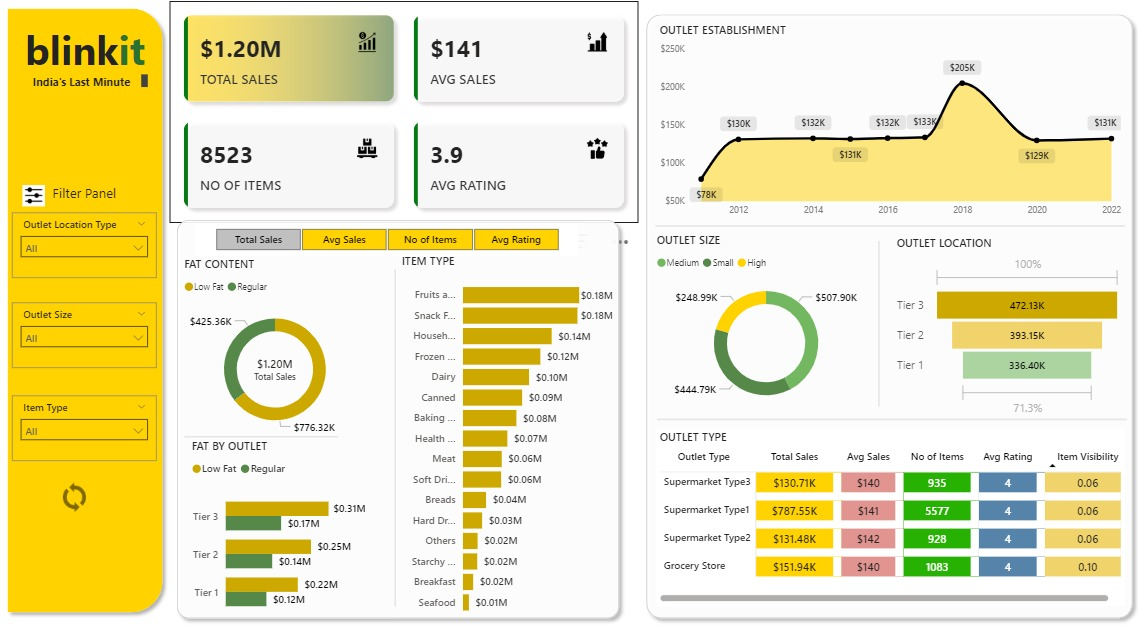

Layout of this report page (visuals, bound fields, positions):
{"tool":"powerbi","page":{"name":"Page 1","canvas":[1400,800],"ordinal":0},"visuals":[{"type":"shape","box":[18.1,25.3,206,750],"z":0},{"type":"textbox","box":[18.1,45.2,206,94],"z":1000},{"type":"textbox","box":[39.8,108.4,162.7,30.7],"z":2000},{"type":"cardVisual","fields":{"Data":["BlinkIT Grocery Data.Total Sales","BlinkIT Grocery Data.Avg Sales","BlinkIT Grocery Data.No of Items","BlinkIT Grocery Data.Avg Rating"]},"box":[224.1,25.3,569.3,269.3],"z":3000},{"type":"shape","box":[224.1,281.9,554,501],"z":4000},{"type":"donutChart","title":"FAT CONTENT","fields":{"Y":["BlinkIT Grocery Data.Total Sales"],"Category":["BlinkIT Grocery Data.Item Fat Content"]},"box":[236.8,334.3,229.5,229.5],"z":5000},{"type":"slicer","fields":{"Values":["Metrics.Metrics"]},"box":[254.8,294.6,464.5,39.8],"z":6000},{"type":"cardVisual","fields":{"Data":["BlinkIT Grocery Data.Total Sales"]},"box":[296.4,430.1,110.2,81.3],"z":7000},{"type":"clusteredBarChart","title":"FAT BY OUTLET","fields":{"Y":["BlinkIT Grocery Data.Total Sales"],"Category":["BlinkIT Grocery Data.Outlet Location Type"],"Series":["BlinkIT Grocery Data.Item Fat Content"]},"box":[245.8,554.8,220.5,229.5],"z":8000},{"type":"shape","box":[242.2,544,186.1,19.9],"z":9000},{"type":"shape","box":[486.2,350.6,23.5,408.4],"z":10000},{"type":"barChart","title":"ITEM TYPE","fields":{"Y":["BlinkIT Grocery Data.Total Sales"],"Category":["BlinkIT Grocery Data.Item Type"]},"box":[500.6,330.7,265.7,448.2],"z":11000},{"type":"shape","box":[793.4,32.5,607.2,750],"z":12000},{"type":"lineChart","title":"OUTLET ESTABLISHMENT","fields":{"Category":["BlinkIT Grocery Data.Outlet Establishment Year"],"Y":["BlinkIT Grocery Data.Total Sales"]},"box":[813.3,50.6,569.3,244],"z":13000},{"type":"shape","box":[813.3,281.9,569.3,32.5],"z":14000},{"type":"donutChart","title":"OUTLET SIZE","fields":{"Y":["BlinkIT Grocery Data.Total Sales"],"Category":["BlinkIT Grocery Data.Outlet Size"]},"box":[809.7,305.4,274.7,224.1],"z":15000},{"type":"shape","box":[1071.7,316.3,25.3,200.6],"z":16000},{"type":"funnel","title":"OUTLET LOCATION","fields":{"Y":["Sum(BlinkIT Grocery Data.Sales)"],"Category":["BlinkIT Grocery Data.Outlet Location Type"]},"box":[1100.6,309,281.9,224.1],"z":17000},{"type":"shape","box":[815.1,516.9,569.3,32.5],"z":18000},{"type":"pivotTable","title":"OUTLET TYPE","fields":{"Rows":["BlinkIT Grocery Data.Outlet Type"],"Values":["BlinkIT Grocery Data.Total Sales","BlinkIT Grocery Data.Avg Sales","BlinkIT Grocery Data.No of Items","BlinkIT Grocery Data.Avg Rating","Avg(BlinkIT Grocery Data.Item Visibility)"]},"box":[813.3,544,569.3,215.1],"z":19000},{"type":"slicer","fields":{"Values":["BlinkIT Grocery Data.Outlet Location Type"]},"box":[32.5,281.9,175.3,79.5],"z":20000},{"type":"slicer","fields":{"Values":["BlinkIT Grocery Data.Outlet Size"]},"box":[32.5,390.4,175.3,79.5],"z":21000},{"type":"slicer","fields":{"Values":["BlinkIT Grocery Data.Item Type"]},"box":[32.5,504.2,175.3,79.5],"z":22000},{"type":"actionButton","box":[77.7,601.8,59.6,50.6],"z":23000},{"type":"textbox","box":[52.4,242.2,135.5,39.8],"z":24000},{"type":"image","box":[39.8,242.2,38,39.8],"z":25000}]}

Visuals, with their boxes on the page's 1400x800 design canvas (x1, y1, x2, y2). These are canvas units, not pixel positions in the 1138x626 screenshot, which may show the page scaled, cropped or inside an application window:
shape: [x1=18, y1=25, x2=224, y2=775]
textbox: [x1=18, y1=45, x2=224, y2=139]
textbox: [x1=40, y1=108, x2=202, y2=139]
cardVisual - BlinkIT Grocery Data.Total Sales x BlinkIT Grocery Data.Avg Sales: [x1=224, y1=25, x2=793, y2=295]
shape: [x1=224, y1=282, x2=778, y2=783]
"FAT CONTENT" donutChart: [x1=237, y1=334, x2=466, y2=564]
slicer - Metrics.Metrics: [x1=255, y1=295, x2=719, y2=334]
cardVisual - BlinkIT Grocery Data.Total Sales: [x1=296, y1=430, x2=407, y2=511]
"FAT BY OUTLET" clusteredBarChart: [x1=246, y1=555, x2=466, y2=784]
shape: [x1=242, y1=544, x2=428, y2=564]
shape: [x1=486, y1=351, x2=510, y2=759]
"ITEM TYPE" barChart: [x1=501, y1=331, x2=766, y2=779]
shape: [x1=793, y1=32, x2=1401, y2=782]
"OUTLET ESTABLISHMENT" lineChart: [x1=813, y1=51, x2=1383, y2=295]
shape: [x1=813, y1=282, x2=1383, y2=314]
"OUTLET SIZE" donutChart: [x1=810, y1=305, x2=1084, y2=530]
shape: [x1=1072, y1=316, x2=1097, y2=517]
"OUTLET LOCATION" funnel: [x1=1101, y1=309, x2=1382, y2=533]
shape: [x1=815, y1=517, x2=1384, y2=549]
"OUTLET TYPE" pivotTable: [x1=813, y1=544, x2=1383, y2=759]
slicer - BlinkIT Grocery Data.Outlet Location Type: [x1=32, y1=282, x2=208, y2=361]
slicer - BlinkIT Grocery Data.Outlet Size: [x1=32, y1=390, x2=208, y2=470]
slicer - BlinkIT Grocery Data.Item Type: [x1=32, y1=504, x2=208, y2=584]
actionButton: [x1=78, y1=602, x2=137, y2=652]
textbox: [x1=52, y1=242, x2=188, y2=282]
image: [x1=40, y1=242, x2=78, y2=282]
